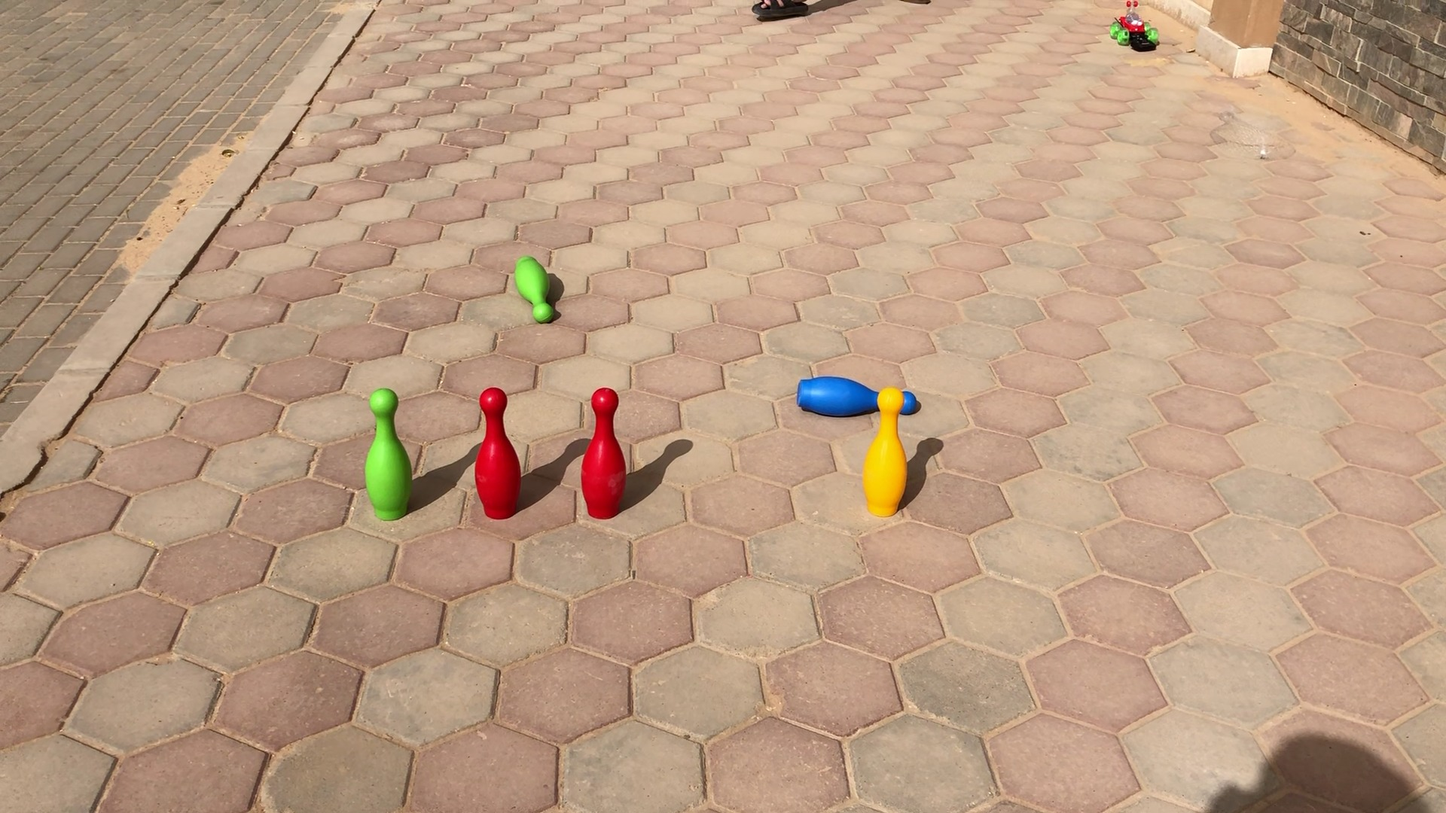bowling-pin: (791, 371, 922, 425), (362, 389, 413, 520), (864, 386, 914, 515), (473, 388, 522, 519), (582, 388, 625, 519), (511, 256, 555, 322)
